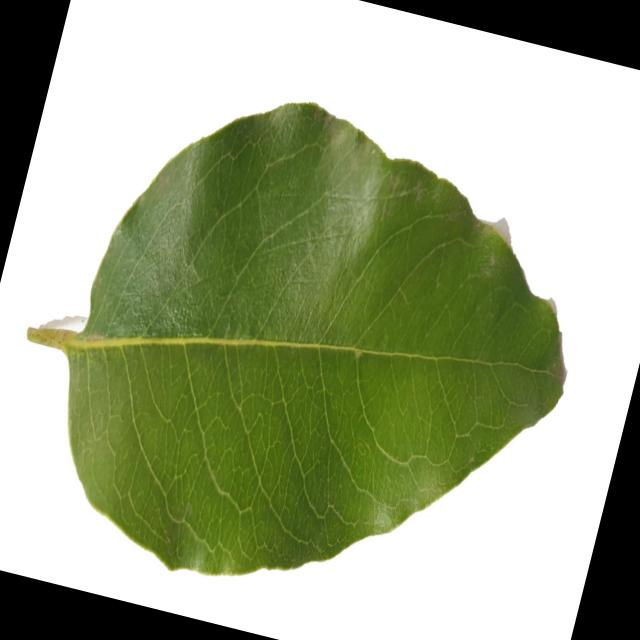Medicinal-Sandalwood: (0, 43, 618, 640)
